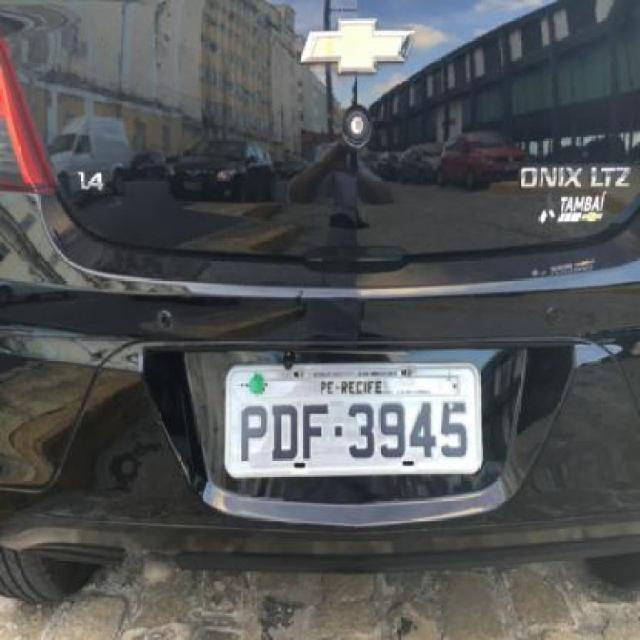old_plate: (218, 355, 489, 486)
